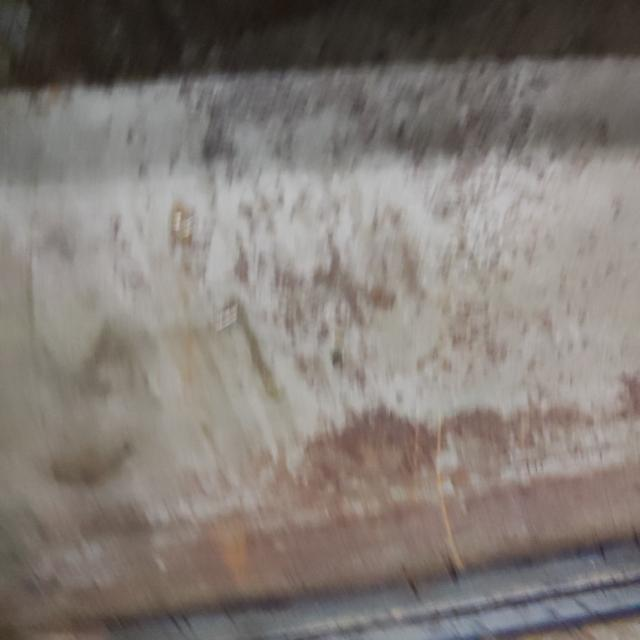seam: (0, 525, 640, 640)
